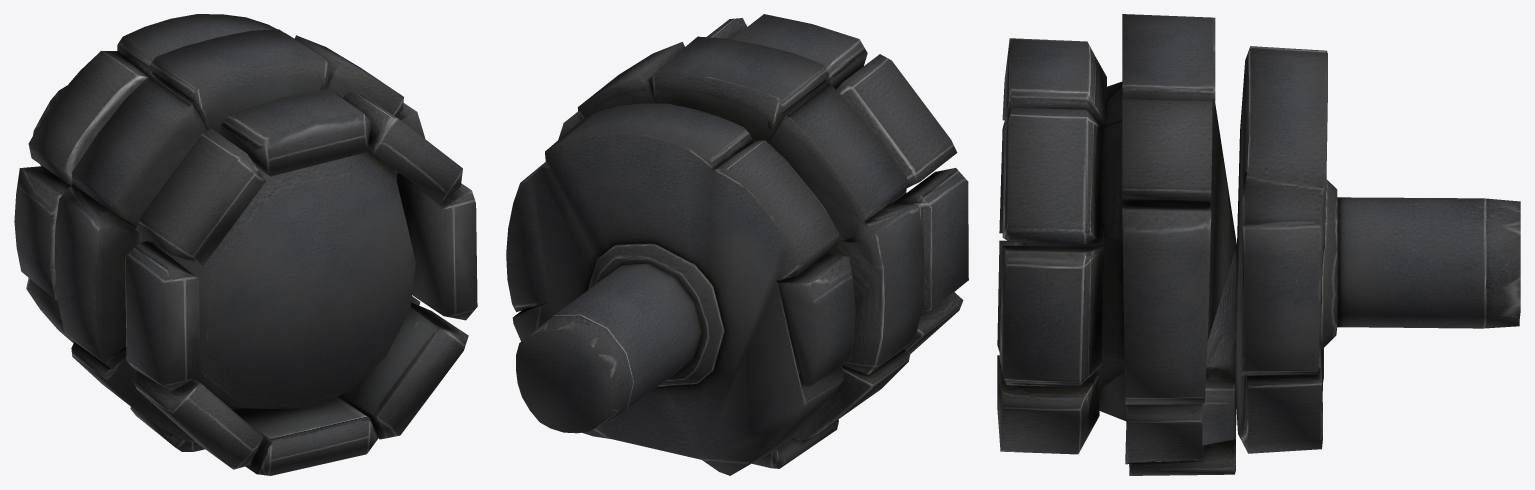
The model's file is cold-iron-v2-propulsion-a-compact.glb.
The picture shows the model from 3 angles, left to right: view 1: azimuth 30°, elevation 25°; view 2: azimuth 150°, elevation 25°; view 3: azimuth 270°, elevation 25°; orthographic projection. The views are drawn at different scales.
Visible parts, largest first — view 1: tripo_node_b421f891-f319-44b9-8667-f3d96d0caeb6; view 2: tripo_node_b421f891-f319-44b9-8667-f3d96d0caeb6; view 3: tripo_node_b421f891-f319-44b9-8667-f3d96d0caeb6.
Boxes of the visible parts, x1,y1,x2,y2 form: tripo_node_b421f891-f319-44b9-8667-f3d96d0caeb6: (14,14,477,475); tripo_node_b421f891-f319-44b9-8667-f3d96d0caeb6: (506,14,968,475); tripo_node_b421f891-f319-44b9-8667-f3d96d0caeb6: (997,14,1520,475).
Size of the model in its own units: 0.7949 by 0.834 by 0.998.
1 material, 1 textured.
